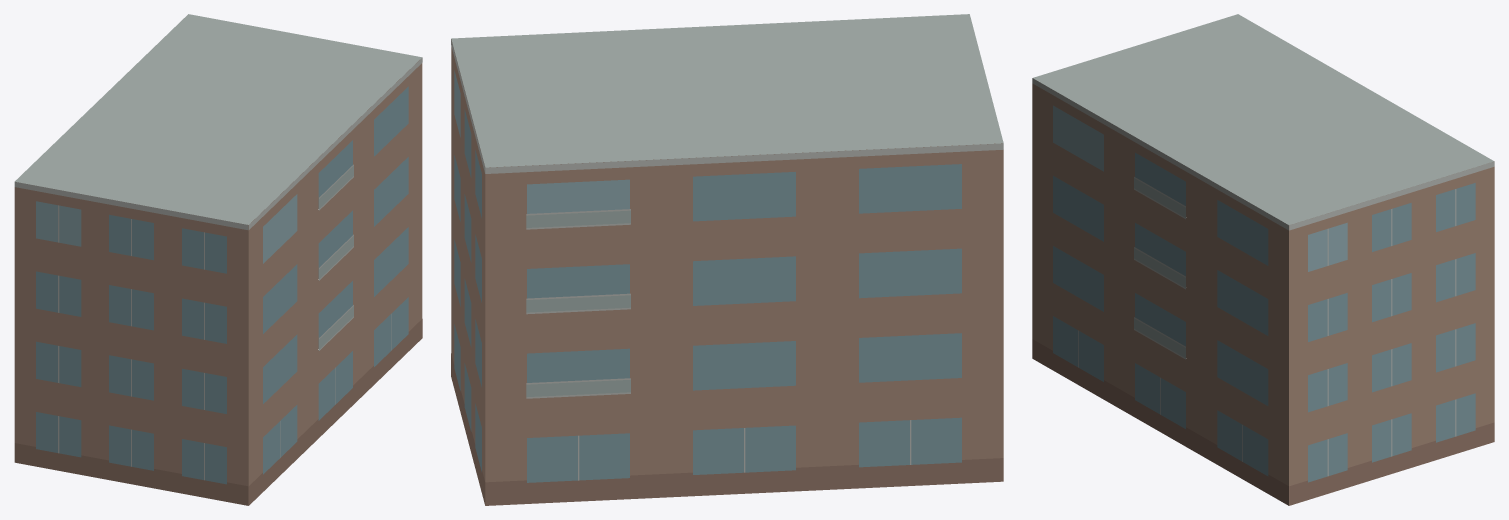
The model's file is residential-9ee6efb3-c2c7-4018-abc3-f6c8583b413e.glb.
The picture shows the model from 3 angles, left to right: view 1: azimuth 30°, elevation 25°; view 2: azimuth 150°, elevation 25°; view 3: azimuth 270°, elevation 25°; orthographic projection. The views are drawn at different scales.
Parts seen in each view (by area): view 1: residential-9ee6efb3-c2c7-4018-abc3-f6c8583b413e.tmp; view 2: residential-9ee6efb3-c2c7-4018-abc3-f6c8583b413e.tmp; view 3: residential-9ee6efb3-c2c7-4018-abc3-f6c8583b413e.tmp.
Part boxes in pixels (left/top/right/bottom): residential-9ee6efb3-c2c7-4018-abc3-f6c8583b413e.tmp: left=14, top=14, right=422, bottom=505; residential-9ee6efb3-c2c7-4018-abc3-f6c8583b413e.tmp: left=451, top=14, right=1003, bottom=505; residential-9ee6efb3-c2c7-4018-abc3-f6c8583b413e.tmp: left=1032, top=14, right=1494, bottom=505.
Size of the model in its own units: 20.68 by 12.8 by 19.11.
